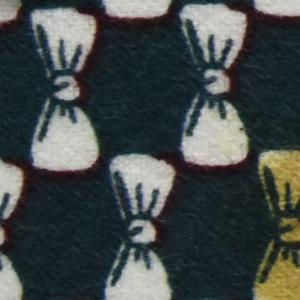Stain: (257, 143, 300, 300)
